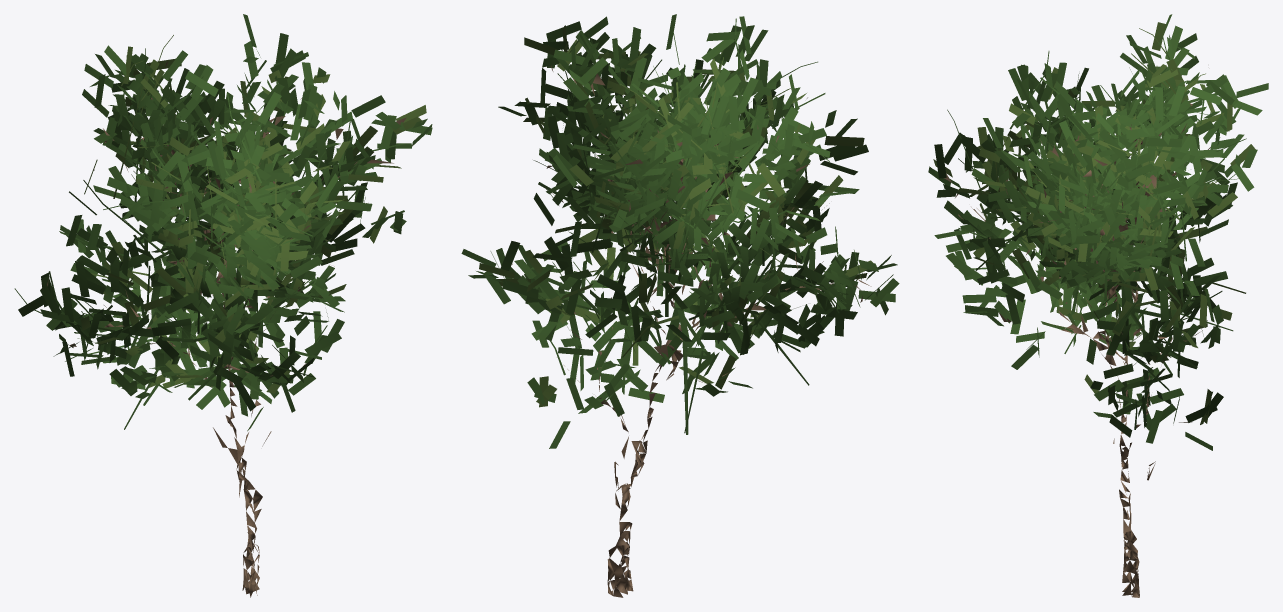
The model's file is arvore_4.glb.
3 renders of one model, left to right at view 1: azimuth 30°, elevation 25°; view 2: azimuth 150°, elevation 25°; view 3: azimuth 270°, elevation 25°, orthographic. The views are drawn at different scales.
Parts seen in each view (by area): view 1: arvore_4; view 2: arvore_4; view 3: arvore_4.
Boxes of the visible parts, x1,y1,x2,y2 form: arvore_4: (14,14,432,597); arvore_4: (461,14,899,597); arvore_4: (928,14,1268,597).
Bounding box in the file's own units: 2.32 × 3.27 × 1.92.
